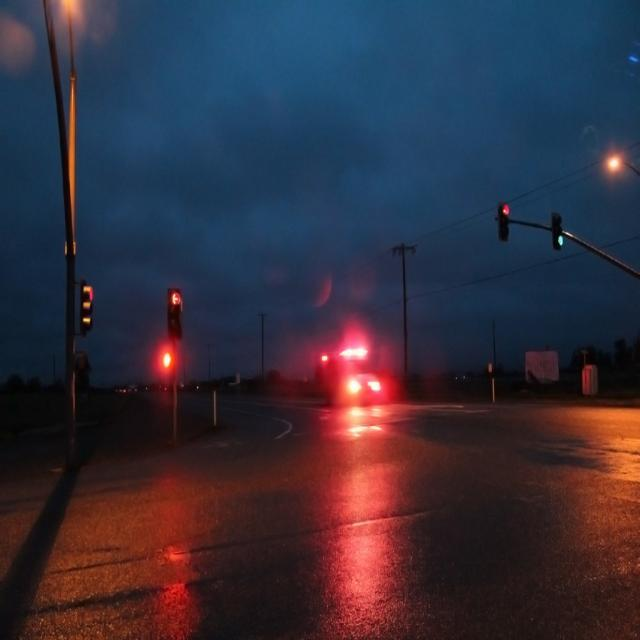traffic light: (163, 285, 187, 342), (496, 200, 511, 242), (551, 212, 565, 250)
